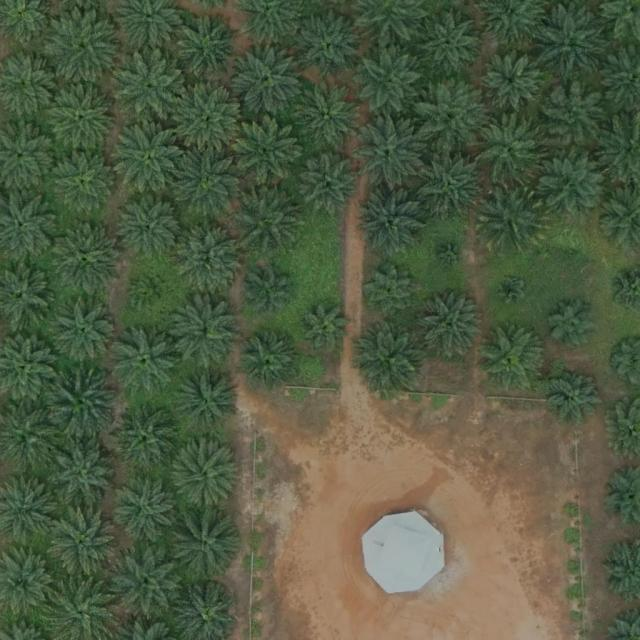Healthy: (535, 8, 606, 79), (357, 190, 428, 261), (174, 223, 245, 294), (115, 123, 186, 194), (413, 81, 483, 152), (355, 48, 426, 118), (355, 119, 426, 189), (233, 46, 303, 117), (236, 116, 306, 187), (177, 85, 247, 156), (117, 55, 188, 125), (51, 85, 121, 156), (52, 225, 122, 296), (49, 370, 119, 441), (49, 438, 119, 509), (48, 511, 118, 582), (110, 327, 181, 397), (112, 549, 182, 620), (170, 300, 241, 370), (357, 324, 428, 394), (416, 292, 486, 363), (477, 324, 547, 395), (477, 184, 547, 254), (538, 83, 608, 153), (541, 150, 611, 220), (476, 115, 546, 185), (416, 148, 486, 218), (292, 79, 362, 149), (236, 183, 306, 253), (173, 145, 243, 215), (50, 13, 120, 83), (109, 403, 179, 473), (173, 365, 243, 435), (173, 442, 243, 512), (170, 512, 240, 582), (299, 154, 362, 217), (481, 51, 543, 114), (420, 14, 482, 77), (299, 12, 361, 75), (180, 16, 242, 79), (120, 196, 183, 258), (55, 301, 117, 364), (114, 478, 177, 540), (54, 153, 116, 215), (243, 335, 298, 390), (551, 369, 606, 424), (365, 266, 419, 321), (547, 298, 601, 353), (248, 272, 295, 320), (302, 304, 349, 351)
Small: (134, 274, 173, 314), (437, 240, 468, 272), (496, 275, 527, 307), (556, 236, 587, 267)
